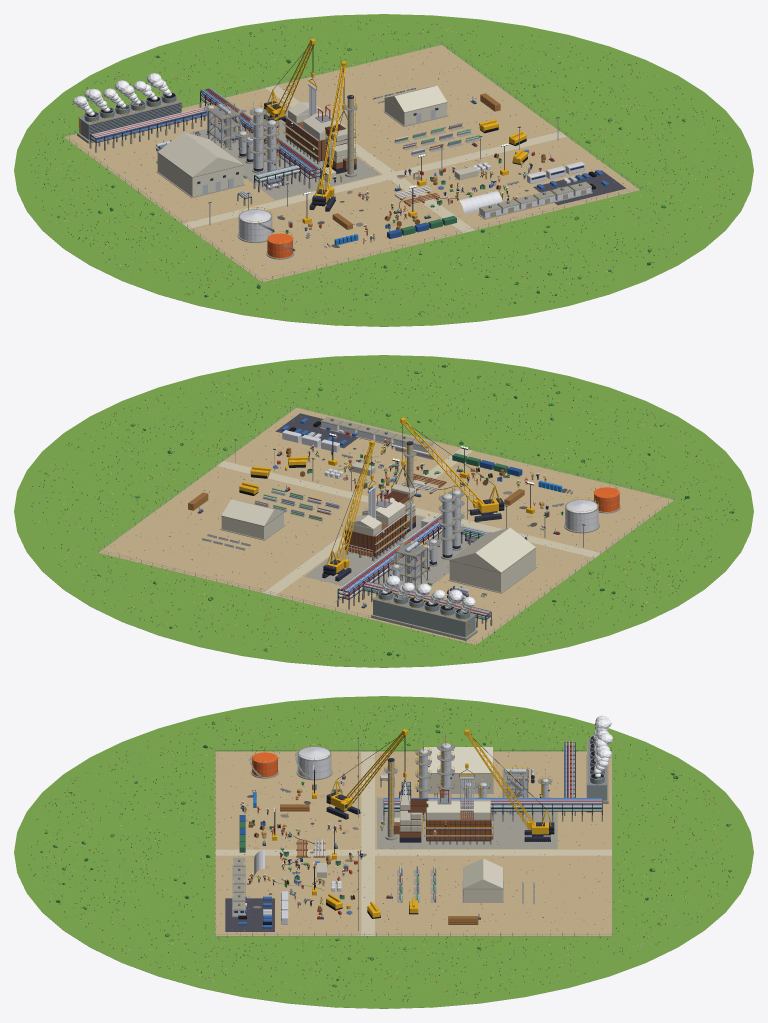
The model's file is reformer-reharp.glb.
3 renders of one model, top to bottom at view 1: azimuth 30°, elevation 25°; view 2: azimuth 150°, elevation 25°; view 3: azimuth 270°, elevation 25°, orthographic.
Visible parts, largest first — view 1: reformer_fieldGreen, reformer_gravel, reformer_corrugated, reformer_galvanized, reformer_concrete, reformer_road, reformer_safetyYellow, reformer_tube, reformer_steelDark, reformer_jacket, reformer_towerCasing, reformer_steam (+22 smaller); view 2: reformer_fieldGreen, reformer_gravel, reformer_corrugated, reformer_galvanized, reformer_concrete, reformer_safetyYellow, reformer_road, reformer_tube, reformer_jacket, reformer_towerCasing, reformer_steelDark, reformer_steam (+18 smaller); view 3: reformer_fieldGreen, reformer_gravel, reformer_road, reformer_concrete, reformer_corrugated, reformer_safetyYellow, reformer_galvanized, reformer_jacket, reformer_tube, reformer_steelDark, reformer_radiantRust, reformer_asphalt (+20 smaller).
Boxes of the visible parts, x1,y1,x2,y2 form: reformer_fieldGreen: [14, 14, 753, 326]; reformer_gravel: [64, 45, 639, 281]; reformer_corrugated: [157, 85, 447, 196]; reformer_galvanized: [63, 41, 640, 281]; reformer_concrete: [77, 108, 592, 259]; reformer_road: [182, 85, 566, 233]; reformer_safetyYellow: [78, 38, 531, 247]; reformer_tube: [44, 29, 733, 318]; reformer_steelDark: [89, 78, 559, 245]; reformer_jacket: [91, 88, 478, 197]; reformer_towerCasing: [79, 92, 181, 140]; reformer_steam: [72, 73, 171, 115]; reformer_fieldGreen: [14, 355, 753, 667]; reformer_gravel: [98, 407, 673, 644]; reformer_corrugated: [221, 497, 535, 592]; reformer_galvanized: [98, 404, 674, 644]; reformer_concrete: [220, 427, 620, 640]; reformer_safetyYellow: [239, 417, 619, 635]; reformer_road: [217, 448, 601, 595]; reformer_tube: [54, 365, 737, 652]; reformer_jacket: [263, 489, 523, 617]; reformer_towerCasing: [373, 589, 475, 637]; reformer_steelDark: [197, 434, 584, 627]; reformer_steam: [382, 575, 475, 612]; reformer_fieldGreen: [14, 696, 753, 1008]; reformer_gravel: [215, 751, 611, 936]; reformer_road: [215, 751, 611, 935]; reformer_concrete: [232, 755, 608, 917]; reformer_corrugated: [394, 747, 502, 901]; reformer_safetyYellow: [244, 729, 607, 917]; reformer_galvanized: [215, 739, 612, 935]; reformer_jacket: [381, 741, 602, 900]; reformer_tube: [43, 700, 726, 998]; reformer_steelDark: [255, 737, 602, 919]; reformer_radiantRust: [393, 806, 490, 840]; reformer_asphalt: [225, 898, 274, 931].
Bounding box in the file's own units: 149 × 26.2 × 149.
